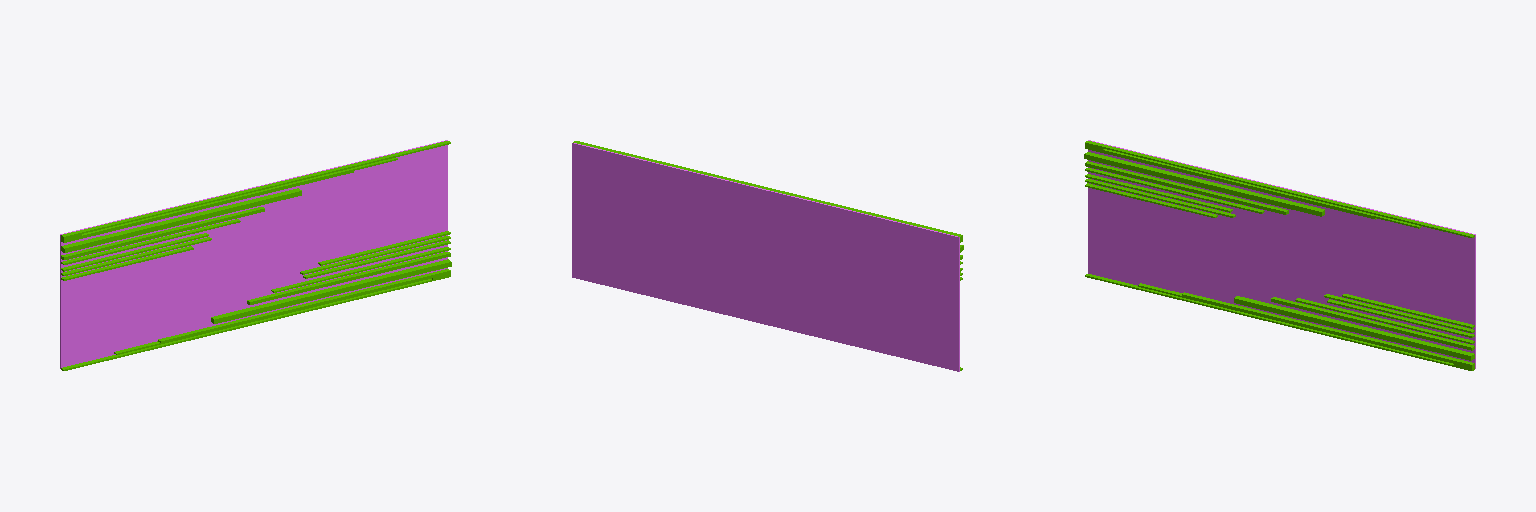
The picture shows the model from 3 angles: view 1: azimuth 30°, elevation 25°; view 2: azimuth 150°, elevation 25°; view 3: azimuth 330°, elevation 25°; orthographic projection.
Parts seen in each view (by area): view 1: object 1; view 2: object 1; view 3: object 1.
Part boxes in pixels (x1,y1,x2,y2): object 1: (60,140,451,370); object 1: (572,141,963,371); object 1: (1084,140,1475,370).
Size of the model in its own units: 25.6 by 8.5 by 0.5.
1 materials, 1 textured.